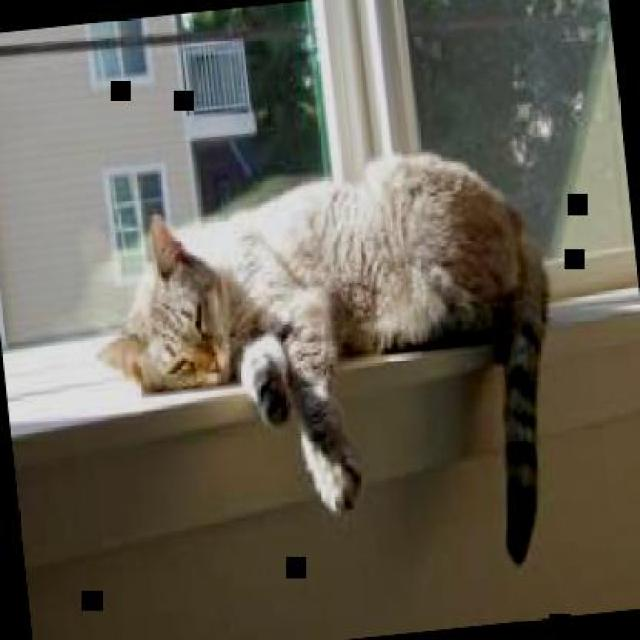cat: (77, 141, 575, 608)
